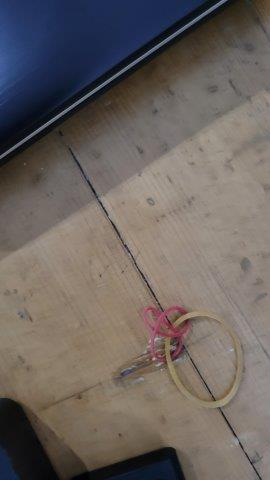karet: (143, 306, 243, 406)
